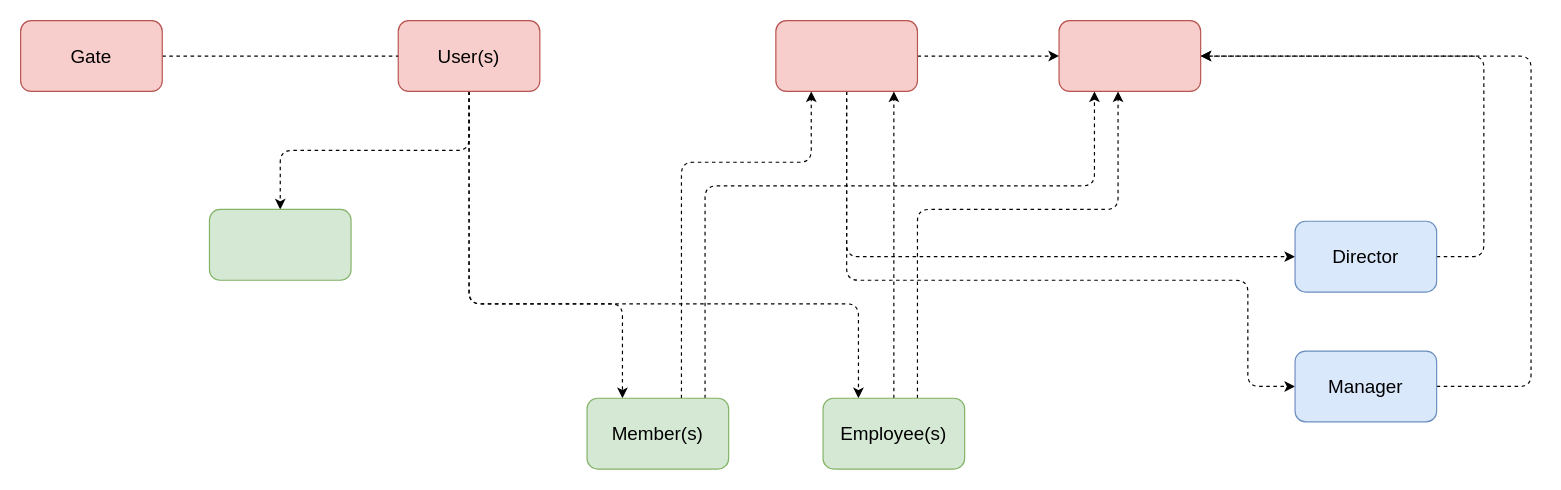
The diagram is 1561 pixels wide and 490 high, and some of its shapes have lost their labels. The shapes that lost their labels are listed below. From the top down, each one's centre as x and y in pixels, then its label:
At point 846,55: "Roles".
At point 1129,55: "Permissions".
At point 279,244: "Administrator(s)".
